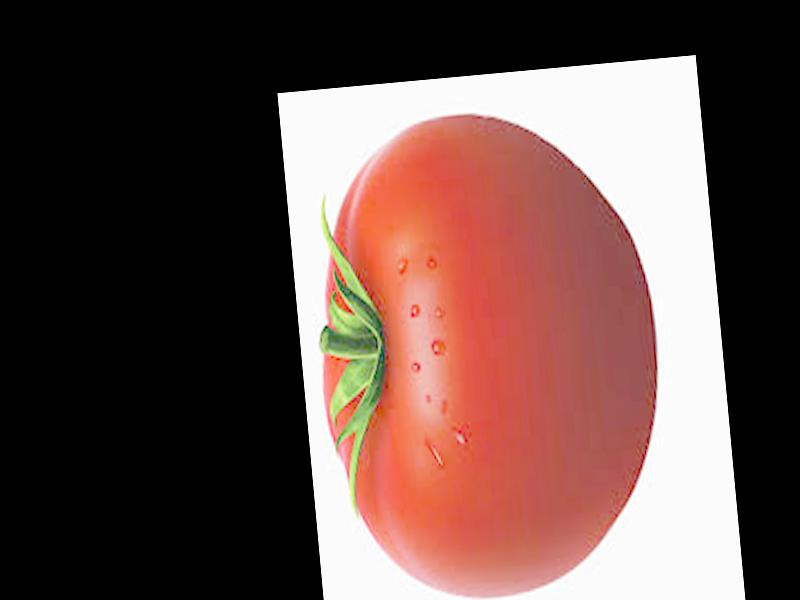Tomato: (299, 99, 674, 553)
